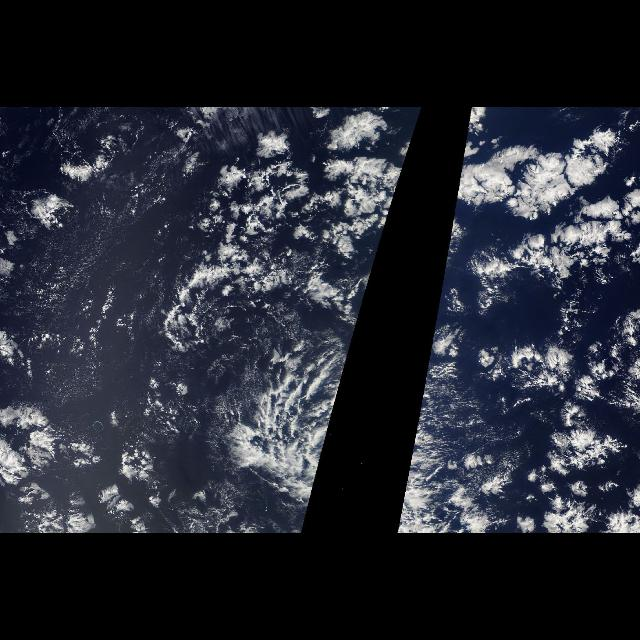Flower: (138, 124, 418, 518), (400, 124, 640, 518)
Gravel: (176, 162, 370, 450)
Sugar: (18, 227, 358, 526), (395, 324, 507, 526)
